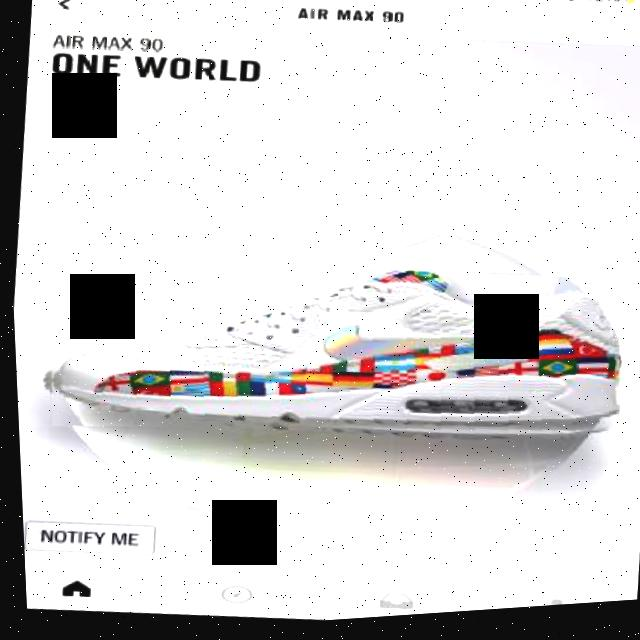shoe: (31, 227, 632, 485)
